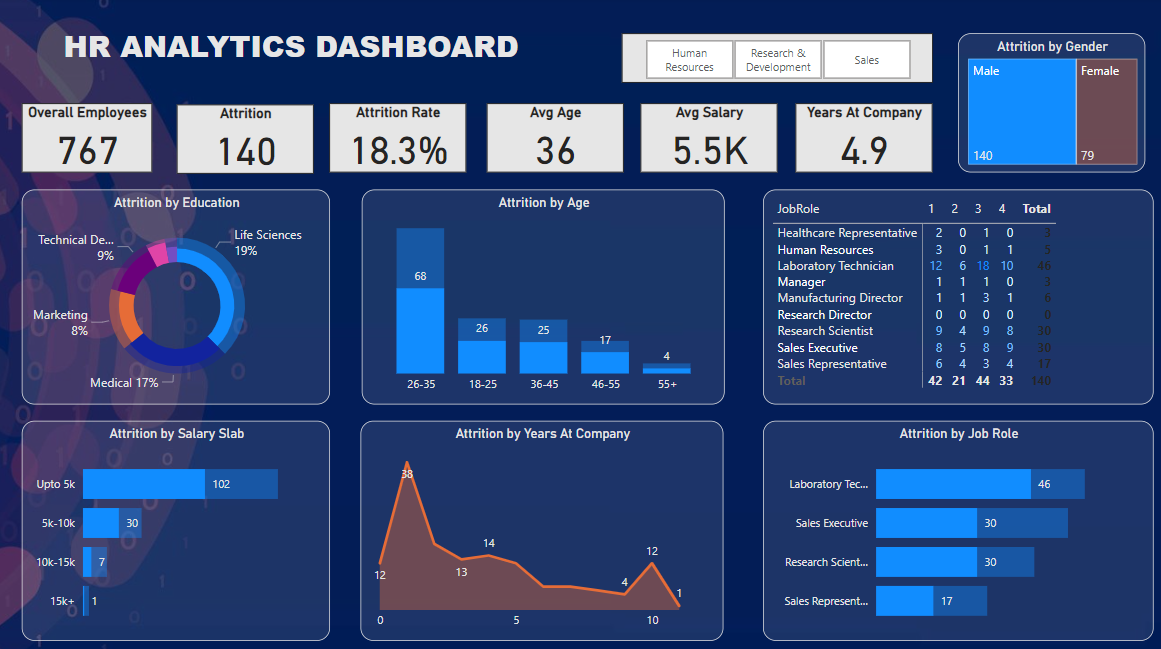

What the dashboard file says about the page in this screenshot:
{"tool":"powerbi","page":{"name":"Page 1","canvas":[1280,720],"ordinal":0},"visuals":[{"type":"card","title":"Overall Employees","fields":{"Values":["CountNonNull(HR_Analytics.EmpID)"]},"box":[25.7,117.1,142.9,75.7],"z":0},{"type":"card","title":"Attrition Rate","fields":{"Values":["HR_Analytics.AttritionRate"]},"box":[364.3,117.1,150,75.7],"z":1000},{"type":"card","title":"Attrition","fields":{"Values":["Sum(HR_Analytics.AttritionCount)"]},"box":[195.7,118.6,150,75.7],"z":2000},{"type":"card","title":"Avg Age","fields":{"Values":["Avg(HR_Analytics.Age)"]},"box":[537.1,117.1,150,75.7],"z":3000},{"type":"card","title":"Years At Company","fields":{"Values":["Avg(HR_Analytics.YearsAtCompany)"]},"box":[875.7,117.1,150,75.7],"z":4000},{"type":"card","title":"Avg Salary","fields":{"Values":["Avg(HR_Analytics.MonthlyIncome)"]},"box":[705.7,117.1,150,75.7],"z":5000},{"type":"donutChart","title":"Attrition by Education","fields":{"Category":["HR_Analytics.EducationField"],"Y":["Sum(HR_Analytics.AttritionCount)"]},"box":[25.7,211.4,338.6,235.7],"z":6000},{"type":"columnChart","title":"Attrition by Age","fields":{"Y":["Sum(HR_Analytics.AttritionCount)"],"Category":["HR_Analytics.AgeGroup"]},"box":[400,211.4,398.6,235.7],"z":7000},{"type":"pivotTable","fields":{"Rows":["HR_Analytics.JobRole"],"Columns":["HR_Analytics.JobSatisfaction"],"Values":["Sum(HR_Analytics.AttritionCount)"]},"box":[840,211.4,428.6,235.7],"z":8000},{"type":"barChart","title":"Attrition by Salary Slab","fields":{"Category":["HR_Analytics.SalarySlab"],"Y":["Sum(HR_Analytics.AttritionCount)"]},"box":[25.7,465.7,338.6,241.4],"z":9000},{"type":"barChart","title":"Attrition by Job Role","fields":{"Category":["HR_Analytics.JobRole"],"Y":["Sum(HR_Analytics.AttritionCount)"]},"box":[840,465.7,428.6,241.4],"z":10000},{"type":"areaChart","title":"Attrition by Years At Company","fields":{"Category":["HR_Analytics.YearsAtCompany"],"Y":["Sum(HR_Analytics.AttritionCount)"]},"box":[398.6,465.7,398.6,241.4],"z":11000},{"type":"treemap","title":"Attrition by Gender","fields":{"Group":["HR_Analytics.Gender"],"Values":["Sum(HR_Analytics.AttritionCount)"]},"box":[1054.3,40,205.7,152.9],"z":12000},{"type":"slicer","fields":{"Values":["HR_Analytics.Department"]},"box":[684.3,40,341.4,54.3],"z":13000},{"type":"textbox","box":[45.7,25.7,552.9,68.6],"z":14000}]}

Visuals, with their boxes in screenshot pixels (x1, y1, x2, y2), scaled from the page's 1280x720 canvas onto the 1161x649 screenshot:
"Overall Employees" card: bbox=(23, 106, 153, 174)
"Attrition Rate" card: bbox=(330, 106, 466, 174)
"Attrition" card: bbox=(178, 107, 314, 175)
"Avg Age" card: bbox=(487, 106, 623, 174)
"Years At Company" card: bbox=(794, 106, 930, 174)
"Avg Salary" card: bbox=(640, 106, 776, 174)
"Attrition by Education" donutChart: bbox=(23, 191, 330, 403)
"Attrition by Age" columnChart: bbox=(363, 191, 724, 403)
pivotTable - HR_Analytics.JobRole x HR_Analytics.JobSatisfaction: bbox=(762, 191, 1151, 403)
"Attrition by Salary Slab" barChart: bbox=(23, 420, 330, 637)
"Attrition by Job Role" barChart: bbox=(762, 420, 1151, 637)
"Attrition by Years At Company" areaChart: bbox=(362, 420, 723, 637)
"Attrition by Gender" treemap: bbox=(956, 36, 1143, 174)
slicer - HR_Analytics.Department: bbox=(621, 36, 930, 85)
textbox: bbox=(41, 23, 543, 85)
